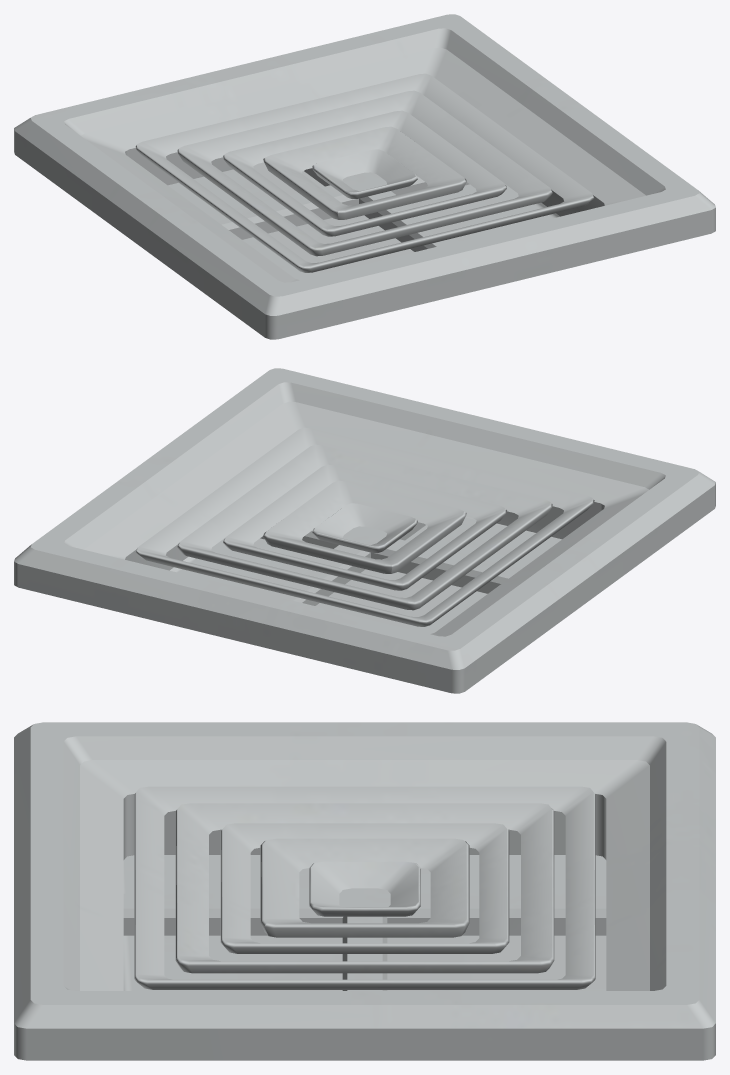
Rendered from hatch.gltf.
3 renders of one model, top to bottom at view 1: azimuth 30°, elevation 25°; view 2: azimuth 150°, elevation 25°; view 3: azimuth 270°, elevation 25°, orthographic. The views are drawn at different scales.
Visible parts, largest first — view 1: hatch; view 2: hatch; view 3: hatch.
Boxes of the visible parts, x1,y1,x2,y2 form: hatch: (14, 14, 715, 339); hatch: (14, 368, 715, 693); hatch: (14, 722, 715, 1060).
Size of the model in its own units: 0.6569 by 0.0962 by 0.6569.
Materials: 1 (1 with a texture image).
